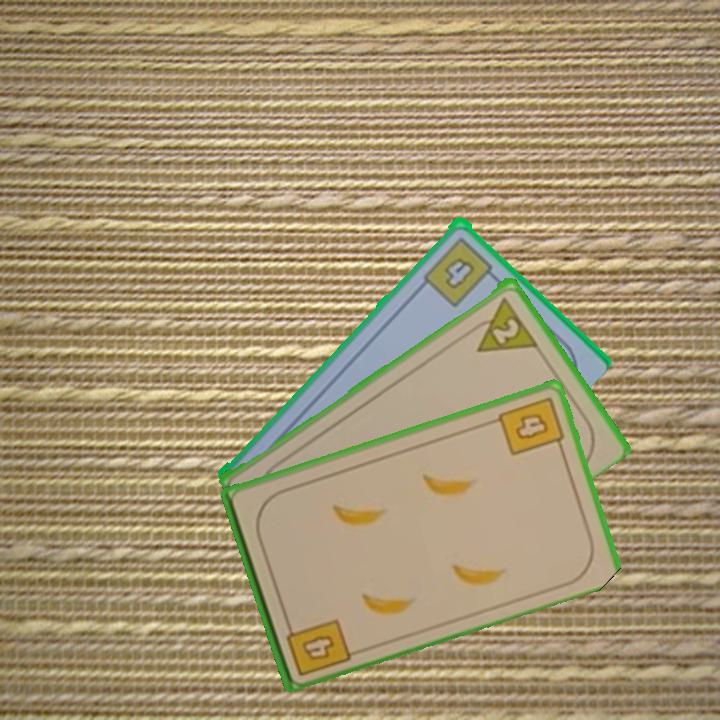2p: (464, 293, 540, 355)
4b: (420, 233, 500, 309), (495, 393, 567, 459), (282, 614, 353, 679)
